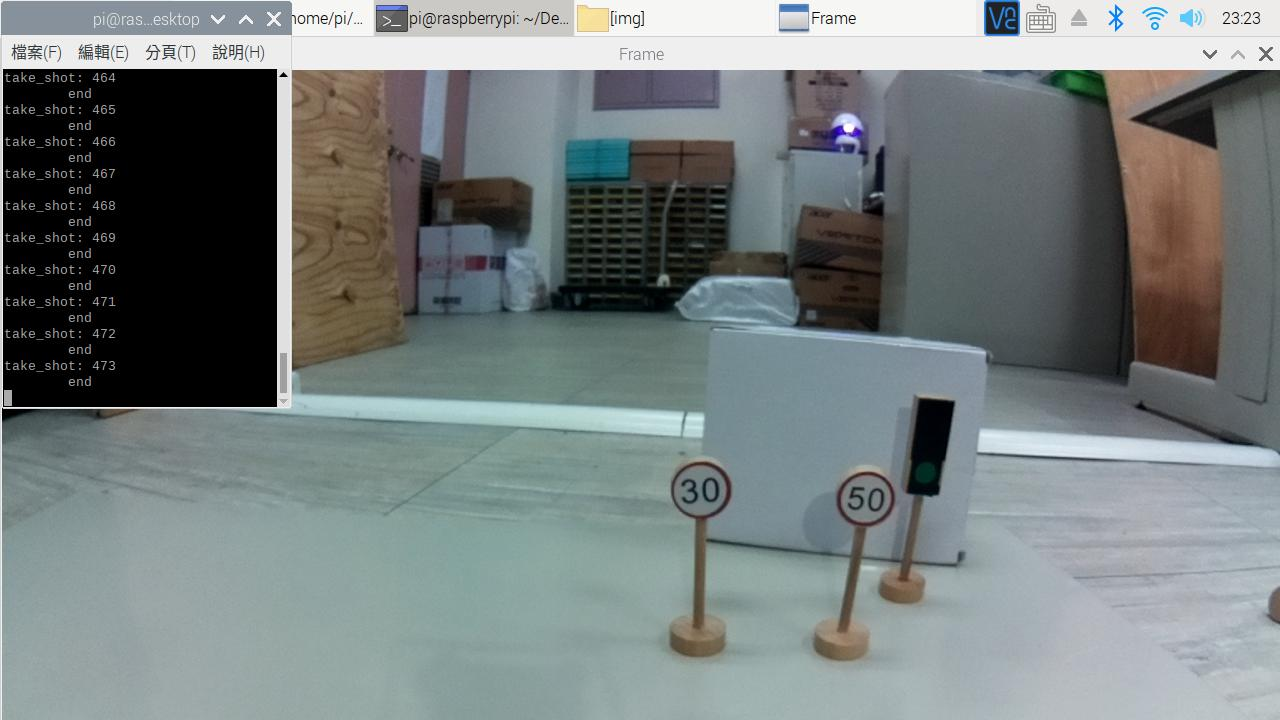Green: (904, 386, 961, 505)
Speed30: (663, 455, 740, 525)
Speed50: (830, 464, 899, 530)
